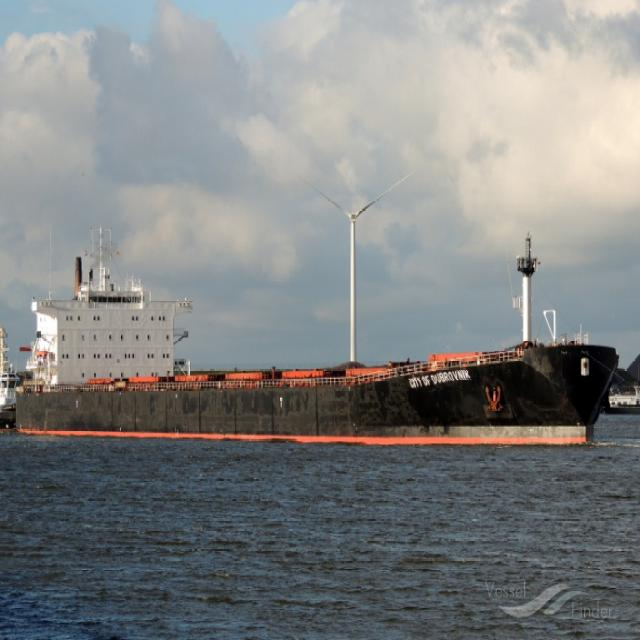OCR: (401, 367, 477, 391)
